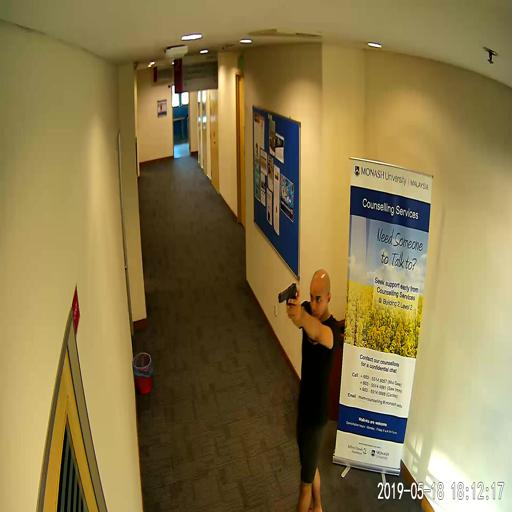pistol: (277, 280, 297, 320)
